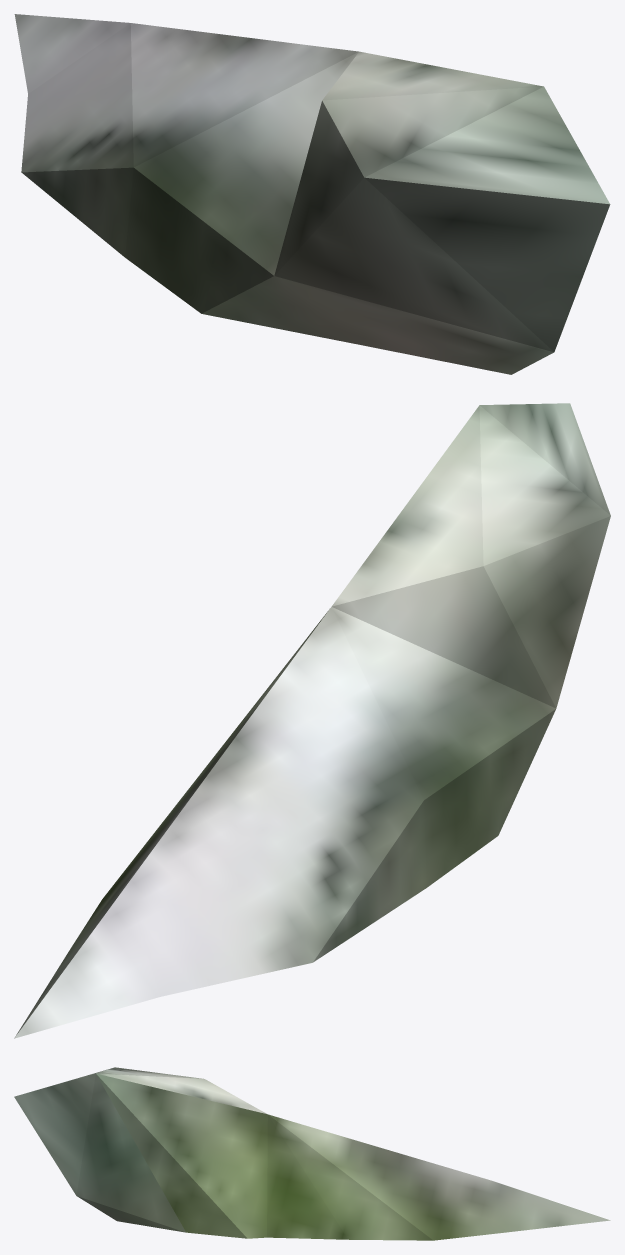
3 renders of one model, top to bottom at view 1: azimuth 30°, elevation 25°; view 2: azimuth 150°, elevation 25°; view 3: azimuth 270°, elevation 25°, orthographic. The views are drawn at different scales.
Size of the model in its own units: 0.1244 by 0.1433 by 0.5152.
1 material, 1 textured.
